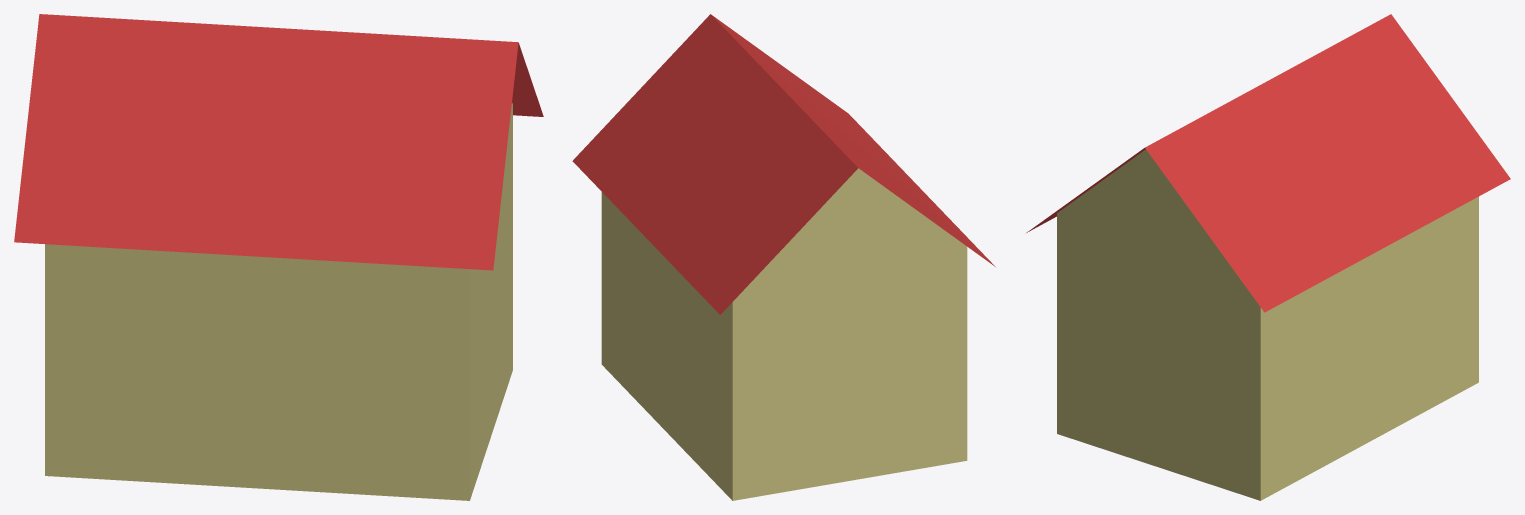
3 renders of one model, left to right at view 1: azimuth 30°, elevation 25°; view 2: azimuth 150°, elevation 25°; view 3: azimuth 270°, elevation 25°, orthographic. The views are drawn at different scales.
Visible parts, largest first — view 1: group_3, group_5, group_4; view 2: group_5, group_3, group_4; view 3: group_5, group_3, group_4.
Boxes of the visible parts, <box> form: group_3: <box>14,14,527,270</box>; group_5: <box>45,102,512,500</box>; group_4: <box>15,40,543,241</box>; group_5: <box>601,168,967,500</box>; group_3: <box>572,14,994,314</box>; group_4: <box>589,14,992,264</box>; group_5: <box>1057,149,1478,500</box>; group_3: <box>1109,15,1510,312</box>; group_4: <box>1026,14,1416,311</box>.
Bounding box in the file's own units: 22.06 × 21.32 × 15.85.
